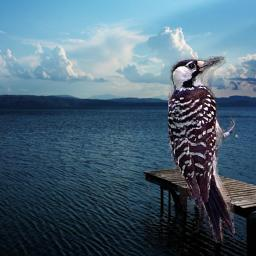Woodpecker: (168, 56, 235, 243)
